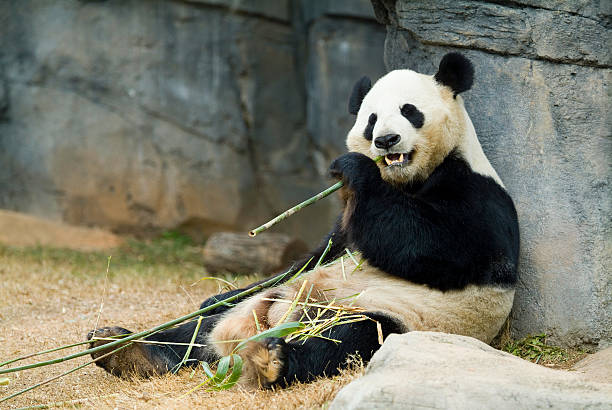panda: (338, 45, 485, 198)
